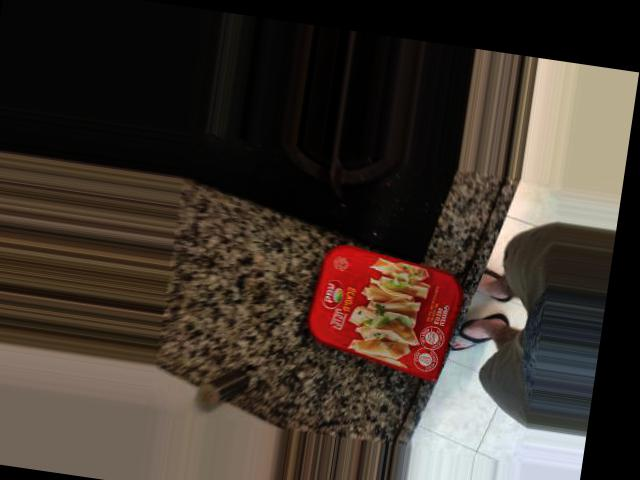cheese: (231, 204, 405, 351)
